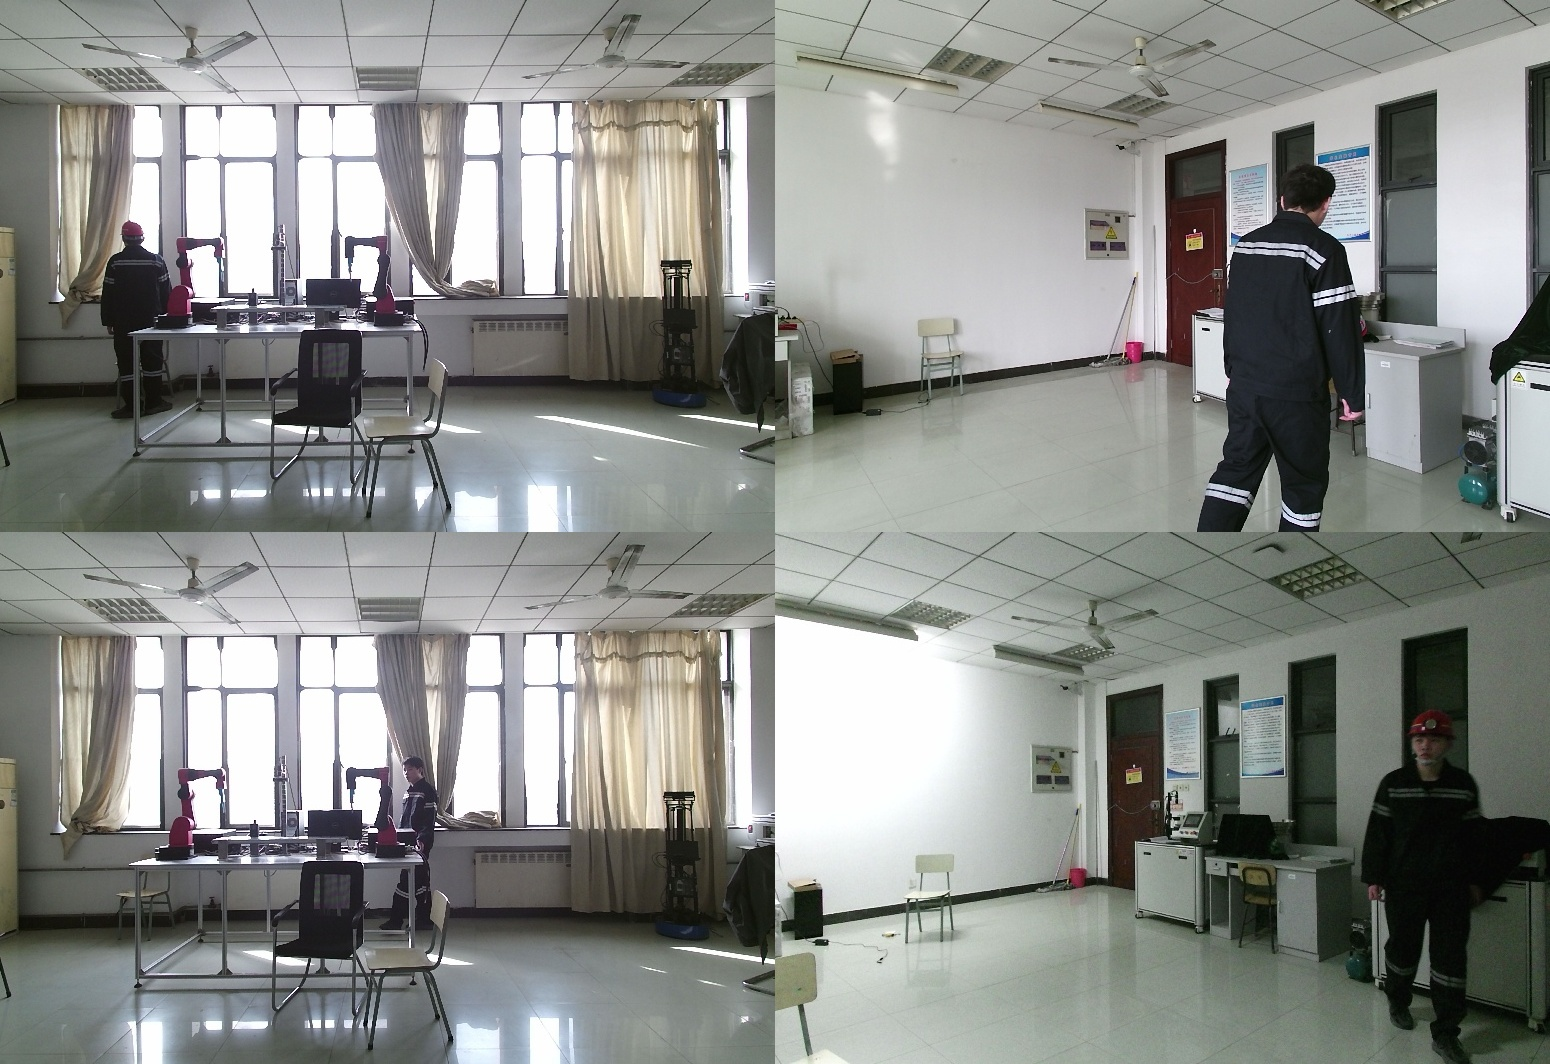person: (1196, 166, 1365, 532), (1366, 715, 1495, 1064), (92, 222, 177, 424), (380, 757, 445, 939)
